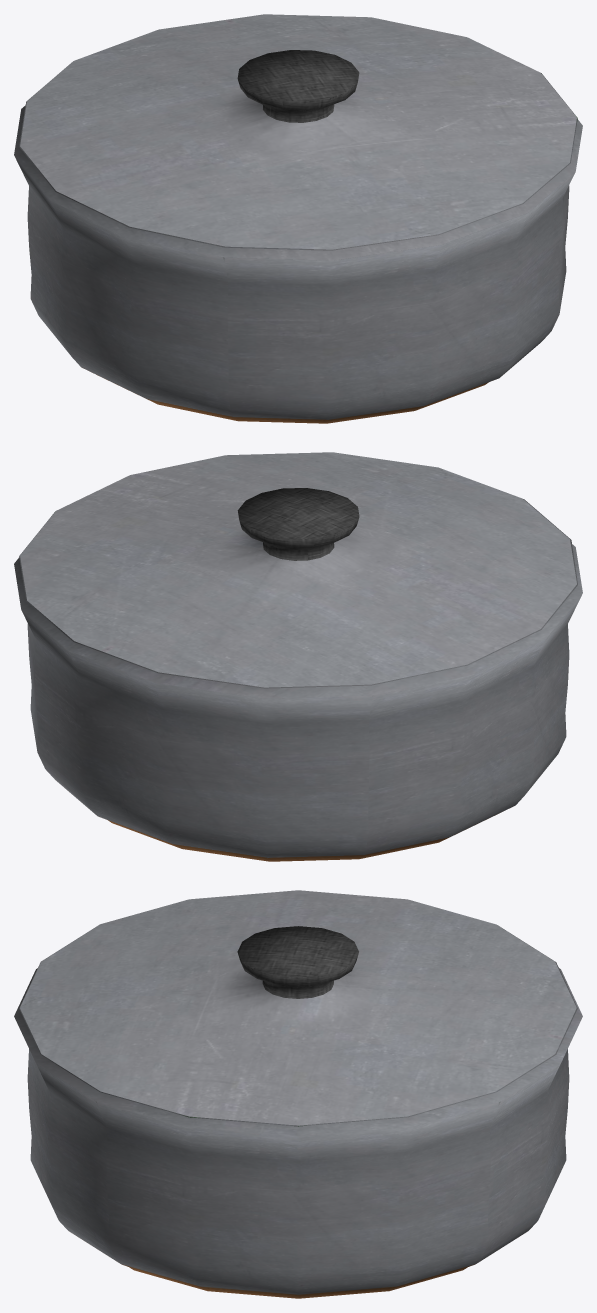
File: pot.obj
3 views of the same model, one above another, from view 1: azimuth 30°, elevation 25°; view 2: azimuth 150°, elevation 25°; view 3: azimuth 270°, elevation 25° (orthographic).
Parts seen in each view (by area): view 1: Teapot01; view 2: Teapot01; view 3: Teapot01.
Boxes of the visible parts, x1,y1,x2,y2 form: Teapot01: (14,14,582,423); Teapot01: (14,452,582,861); Teapot01: (14,890,582,1298).
Size of the model in its own units: 23.14 by 11.69 by 23.14.
